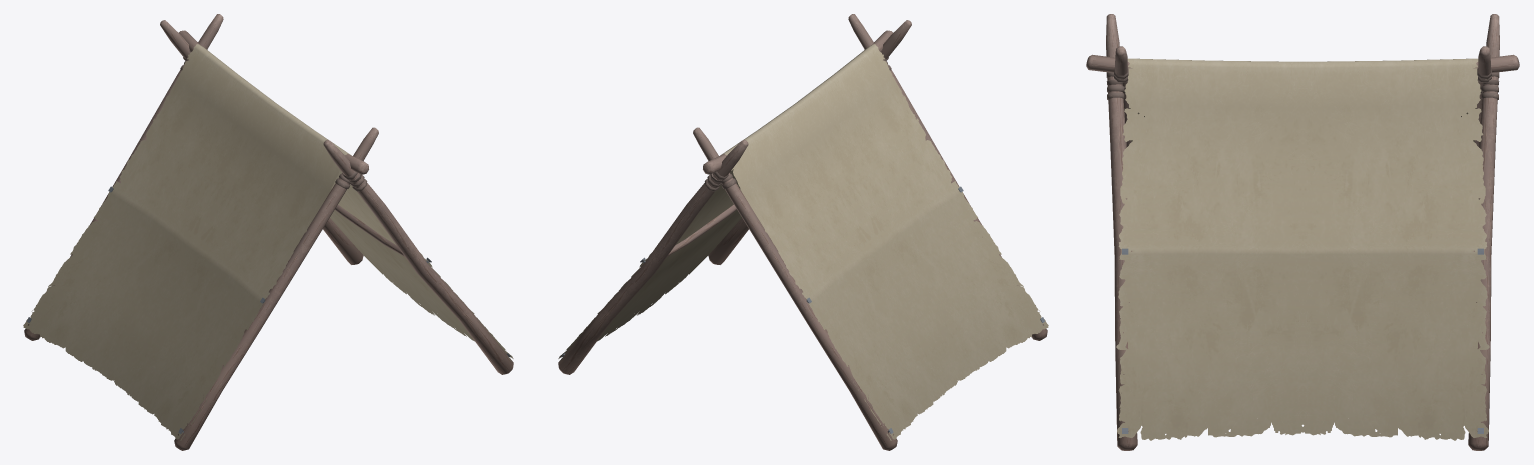
The picture shows the model from 3 angles, left to right: view 1: azimuth 30°, elevation 25°; view 2: azimuth 150°, elevation 25°; view 3: azimuth 270°, elevation 25°; orthographic projection. The views are drawn at different scales.
Visible parts, largest first — view 1: submesh_0; view 2: submesh_0; view 3: submesh_0.
Boxes of the visible parts, x1,y1,x2,y2 form: submesh_0: (23,14,513,450); submesh_0: (558,14,1048,450); submesh_0: (1086,14,1519,450).
Size of the model in its own units: 2.46 by 1.93 by 2.28.
1 material, 1 textured.
